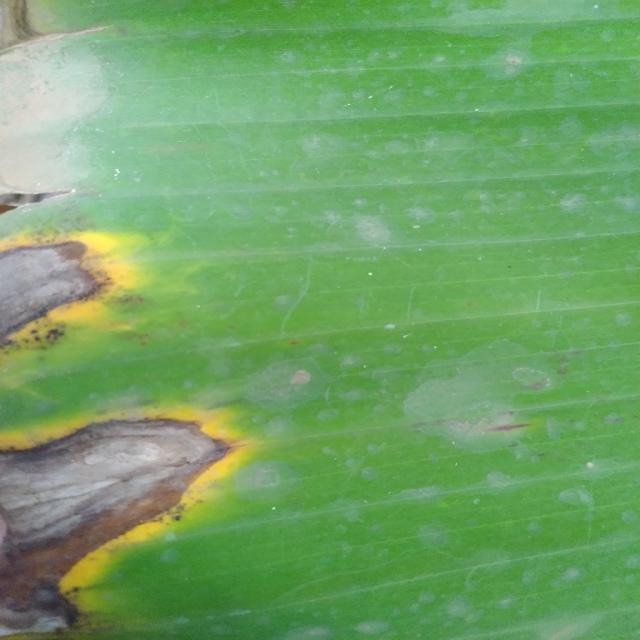Early_rust: (0, 0, 344, 640)
